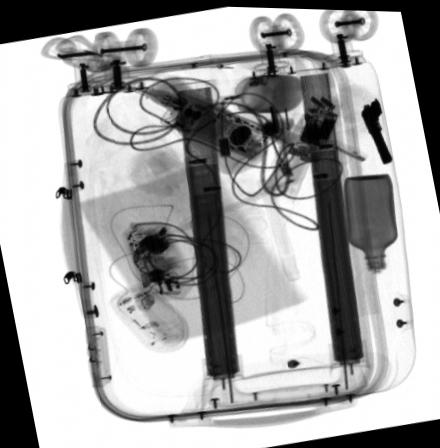Gun: (359, 95, 393, 162)
